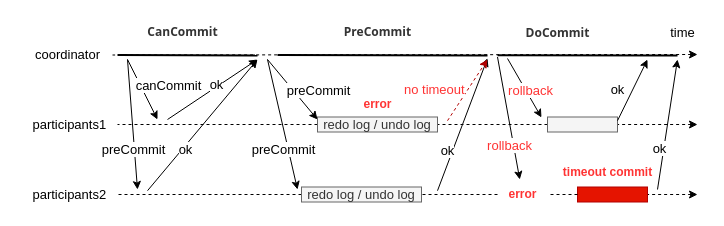
Image size: 724x226. Some labels were removed from this diagram. The centre of each missing label's shape, as x and y in pixels:
"do commit" belongs at (x=612, y=194).
"do rollback" belongs at (x=582, y=124).
